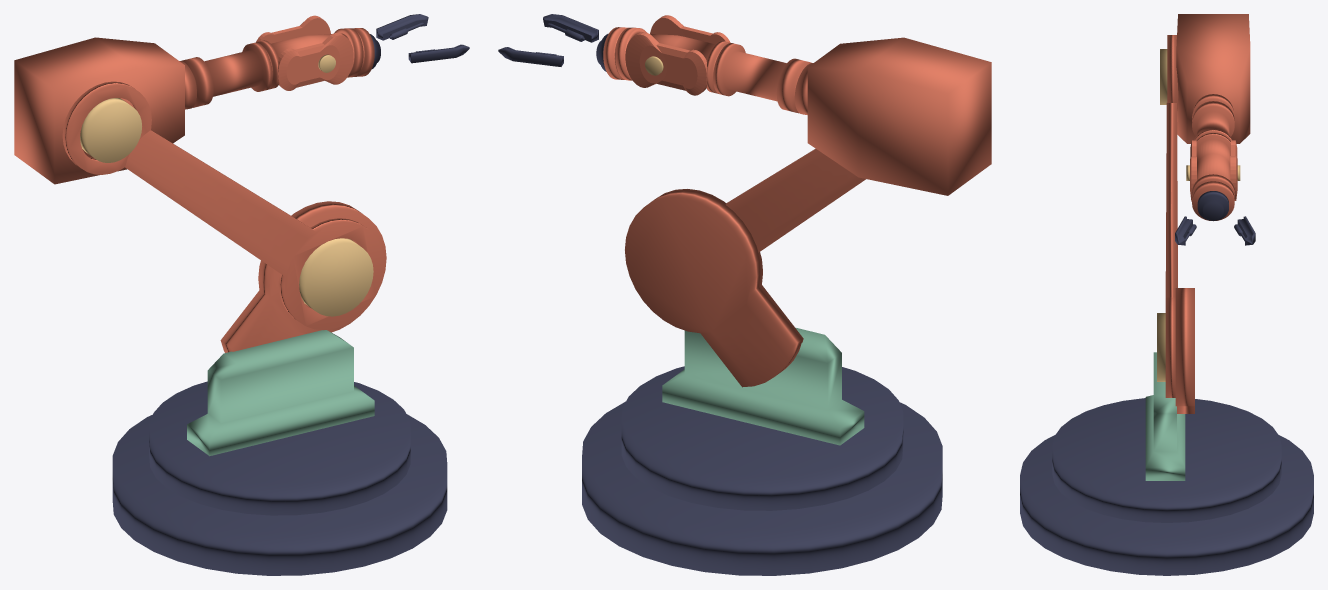
The model's file is robot.glb.
3 renders of one model, left to right at view 1: azimuth 30°, elevation 25°; view 2: azimuth 150°, elevation 25°; view 3: azimuth 270°, elevation 25°, orthographic. The views are drawn at different scales.
Parts seen in each view (by area): view 1: Cylinder, Cylinder.001, Cube, Cylinder.004, Cube.001, Cylinder.006, Cylinder.002, Cylinder.005, Cylinder.003, Cylinder.012, Cylinder.009, Cylinder.008 (+2 smaller); view 2: Cylinder, Cylinder.001, Cube.001, Cylinder.002, Cube, Cylinder.006, Cylinder.004, Cylinder.008, Cylinder.009, Cube.003, Cube.002; view 3: Cylinder.001, Cylinder, Cube.001, Cylinder.006, Cube, Cylinder.004, Cylinder.002, Cylinder.007, Cylinder.003, Cylinder.005, Cylinder.012, Cylinder.008.
Boxes of the visible parts, x1,y1,x2,y2 form: Cylinder: (112,414,447,575); Cylinder.001: (149,381,410,515); Cube: (187,330,374,456); Cylinder.004: (125,130,384,330); Cube.001: (14,37,184,184); Cylinder.006: (179,28,374,109); Cylinder.002: (220,201,386,352); Cylinder.005: (299,238,373,316); Cylinder.003: (62,81,151,174); Cylinder.012: (80,98,141,162); Cylinder.009: (278,33,353,90); Cylinder.008: (256,15,330,43); Cylinder: (582,401,942,575); Cylinder.001: (621,366,903,510); Cube.001: (807,37,991,195); Cylinder.002: (625,189,803,387); Cube: (662,327,864,445); Cylinder.006: (603,27,813,114); Cylinder.004: (725,148,865,252); Cylinder.008: (625,32,707,95); Cylinder.009: (650,15,730,43); Cube.003: (498,47,563,66); Cube.002: (543,14,598,42); Cylinder.001: (1052,398,1281,522); Cylinder: (1020,435,1313,575); Cube.001: (1176,14,1250,143); Cylinder.006: (1192,94,1234,221); Cube: (1145,352,1185,480); Cylinder.004: (1165,103,1177,397); Cylinder.002: (1175,288,1194,413); Cylinder.007: (1197,191,1228,220); Cylinder.003: (1167,35,1178,110); Cylinder.005: (1157,313,1165,381); Cylinder.012: (1160,49,1167,104); Cylinder.008: (1230,140,1237,200).
Bounding box in the file's own units: 3.33 × 3.57 × 2.33.
